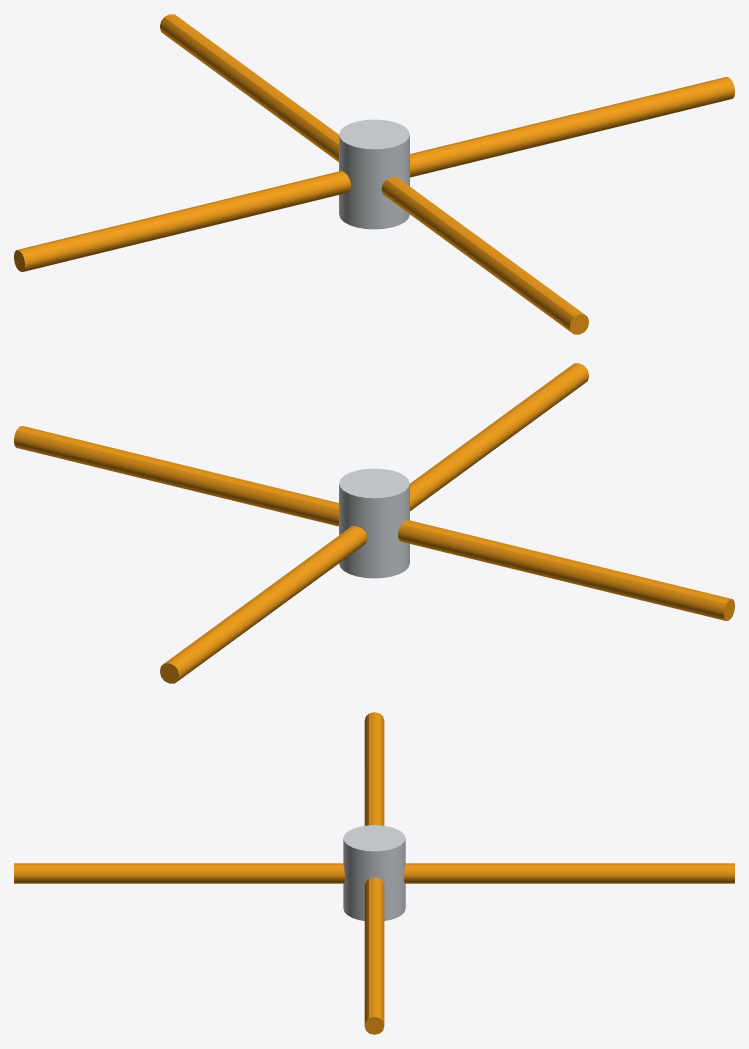
Rendered from Obstacles.003.fbx.
3 renders of one model, top to bottom at view 1: azimuth 30°, elevation 25°; view 2: azimuth 150°, elevation 25°; view 3: azimuth 270°, elevation 25°, orthographic. The views are drawn at different scales.
Visible parts, largest first — view 1: Obstacles.003; view 2: Obstacles.003; view 3: Obstacles.003.
Part boxes in pixels (box(x1,y1,x2,y2)): Obstacles.003: box(14, 14, 734, 334); Obstacles.003: box(14, 363, 734, 683); Obstacles.003: box(14, 712, 734, 1034).
Size of the model in its own units: 12.99 by 1.4 by 12.99.
